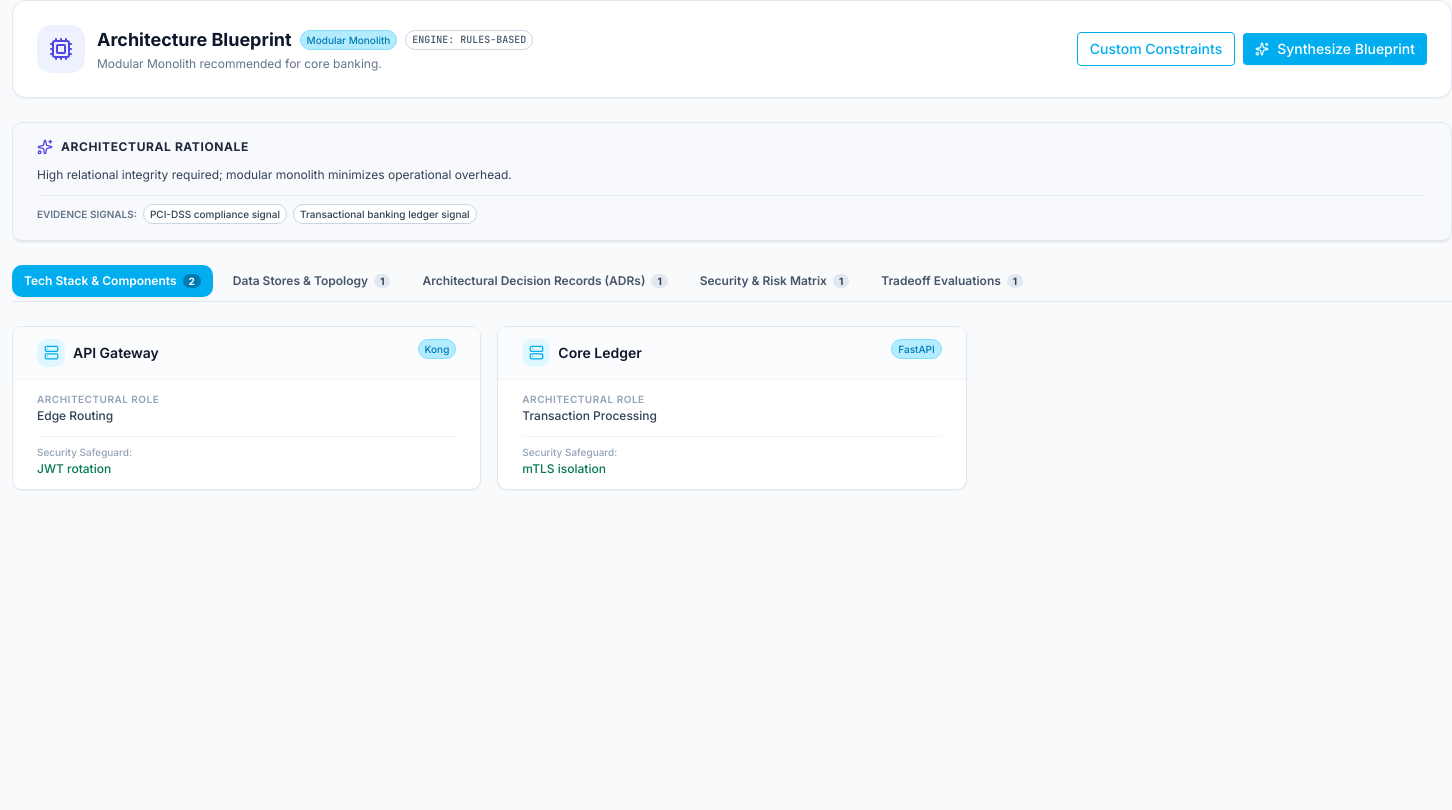
Scenario: ArchitecturePage Component (Engineer 3) › renders data stores and resilience patterns when switching to datastores tab
Click the text "Data Stores & Topology": x=300, y=280 [233, 272, 368, 288]
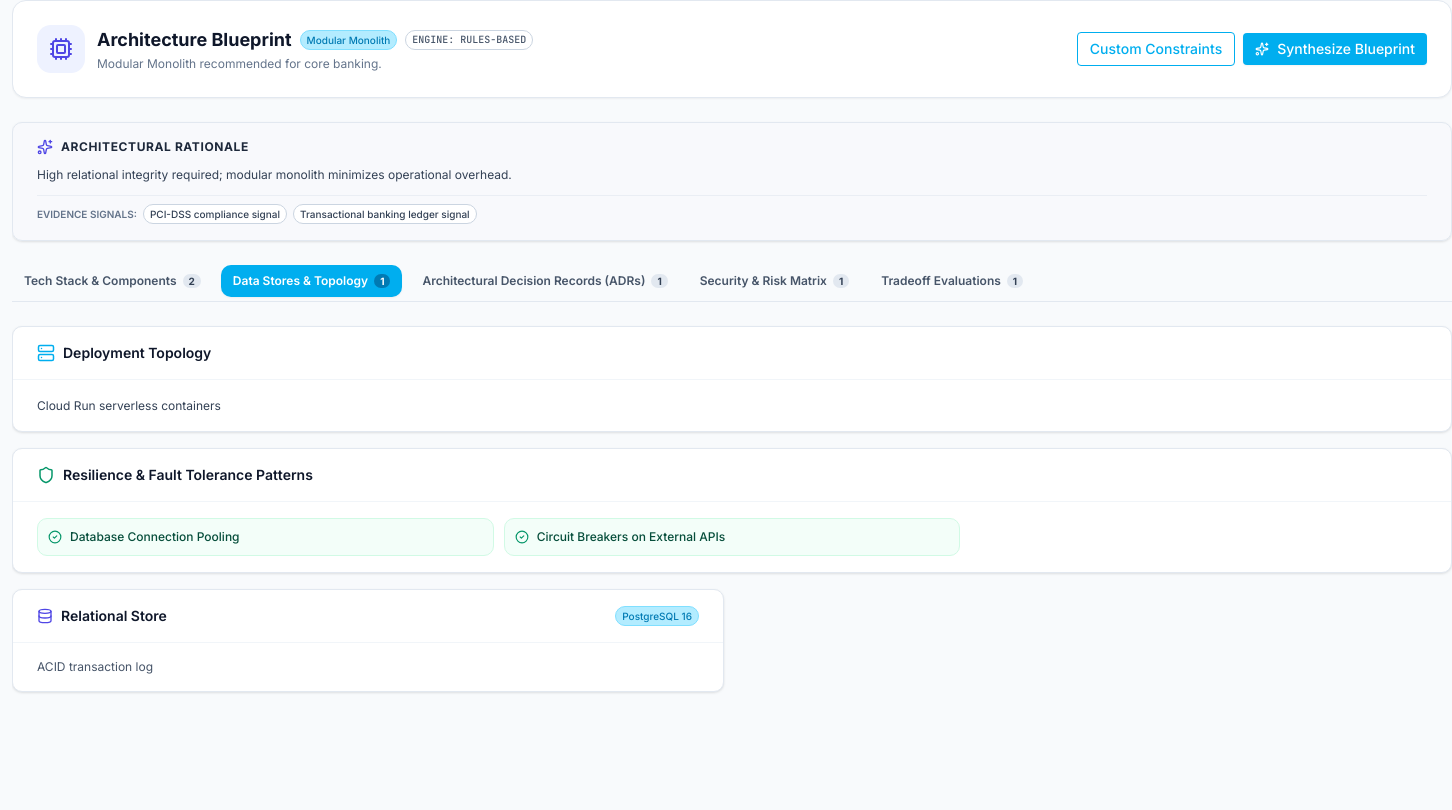
Check: the text "Relational Store" is shown, box [61, 606, 167, 626]
Check: the text "PostgreSQL 16" is shown, box [615, 606, 699, 626]
Check: the text "ACID transaction log" is shown, box [37, 659, 153, 674]
